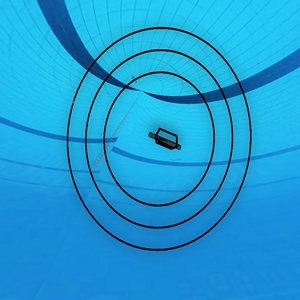circle: (65, 24, 253, 253)
submarine: (149, 127, 183, 153)
